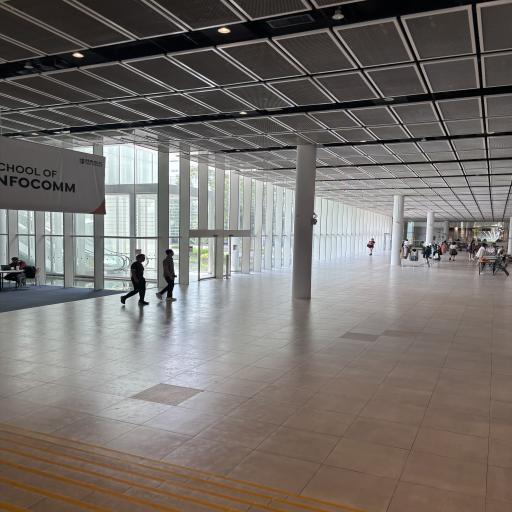person_right: (120, 250, 152, 306), (156, 245, 184, 302)
